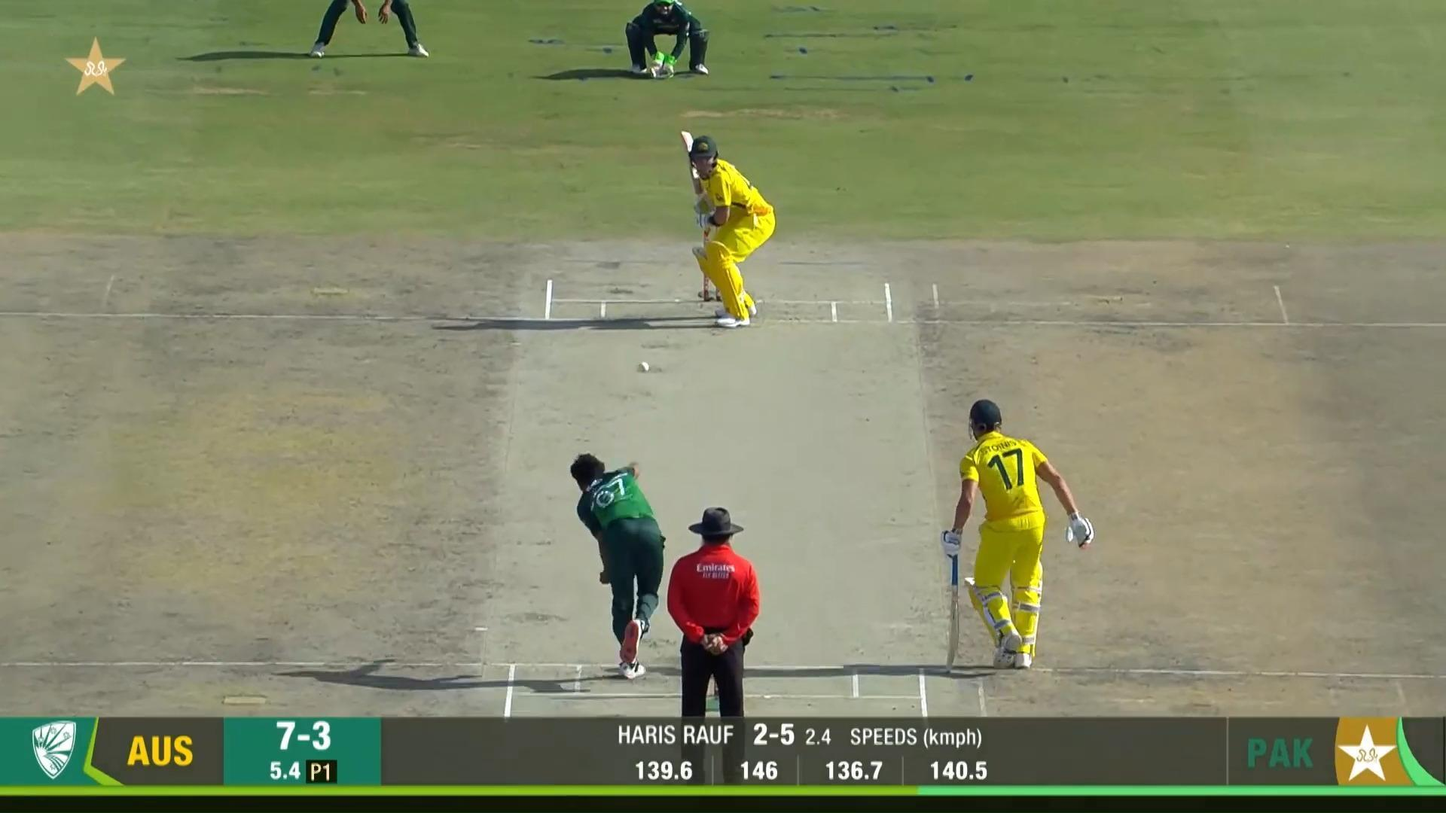BM 1: (680, 130, 776, 329)
BO: (569, 451, 668, 680)
